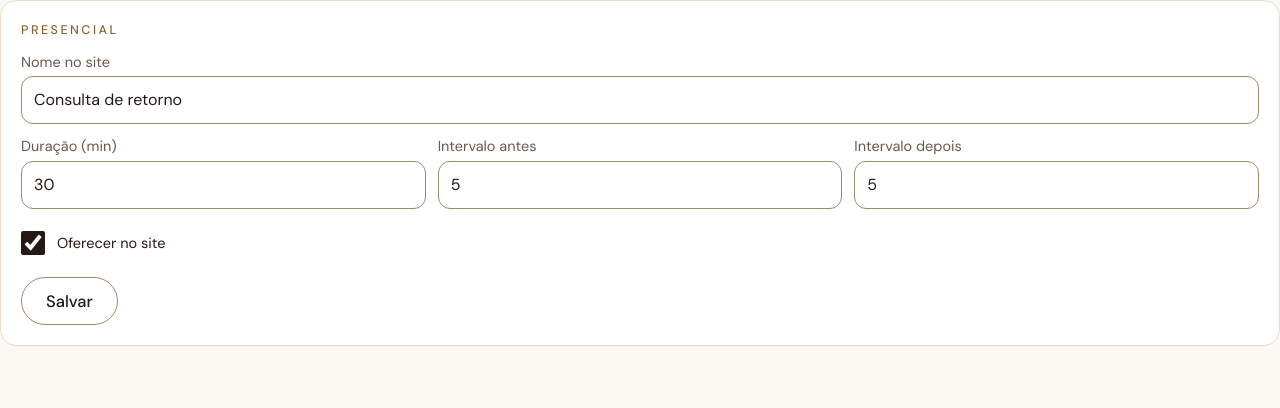
Scenario: <FormTipo> › mostra erro devolvido pela action
Click the button "Salvar". click: (69, 301)
box: [21,277,118,325]
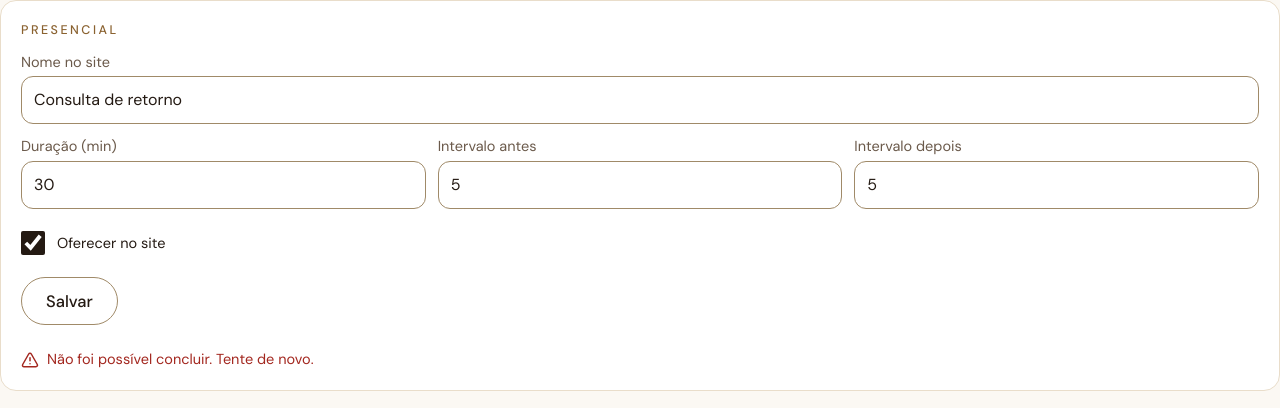
Expected: the message shows "Não foi possível concluir.", [47,350,314,368]
